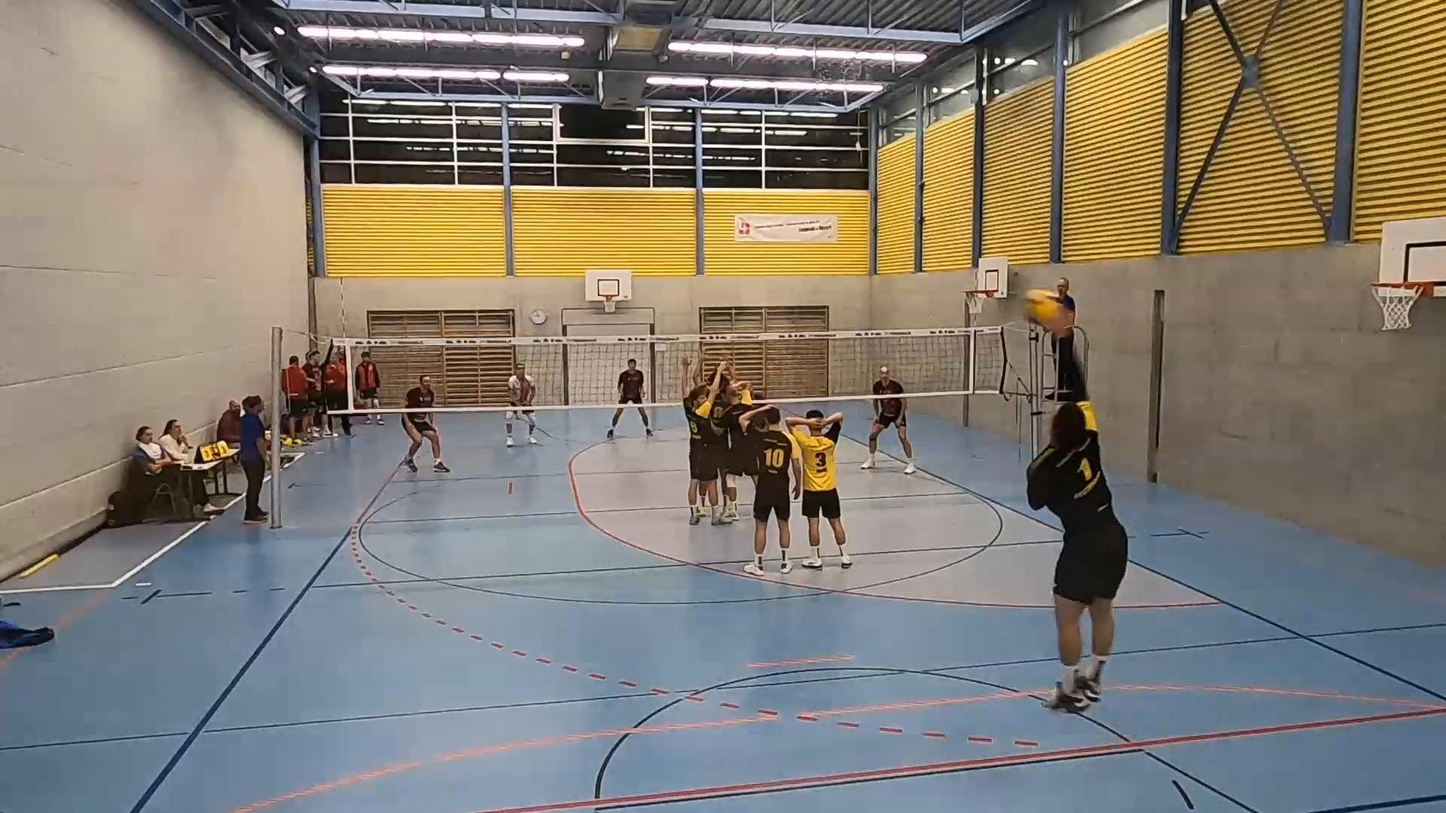Player: (740, 405, 802, 576), (786, 410, 852, 568), (684, 362, 728, 525), (860, 366, 915, 473), (721, 382, 758, 522), (401, 376, 450, 472), (505, 363, 537, 446), (618, 359, 652, 437)
Serve: (1018, 296, 1135, 710)
ball: (1022, 293, 1065, 327)
